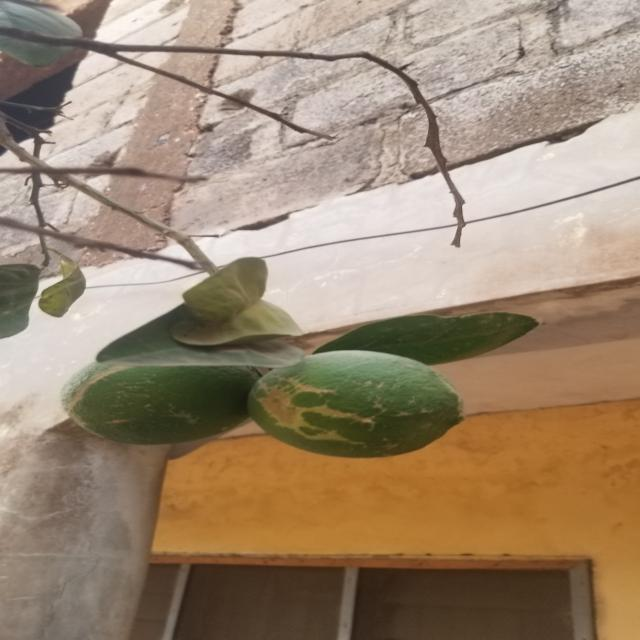Unripe: (235, 351, 467, 462), (59, 354, 258, 449)
